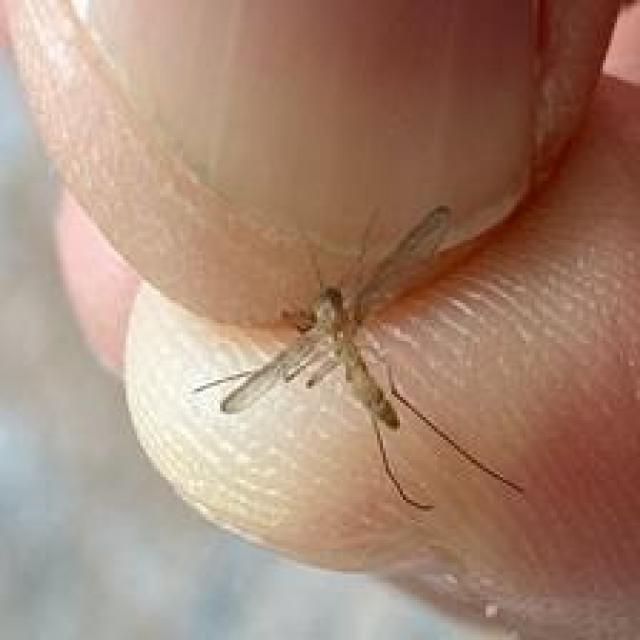Culex: (190, 203, 527, 511)
